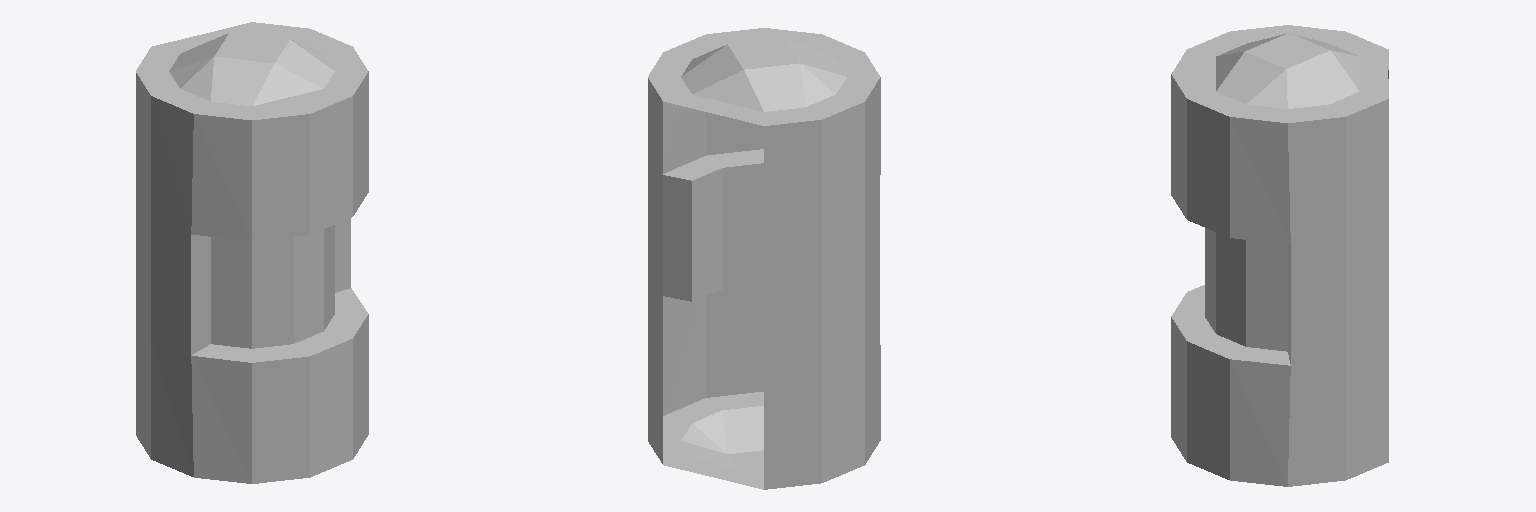
Rendered from Wall_Light_Orange.obj.
3 renders of one model, left to right at view 1: azimuth 30°, elevation 25°; view 2: azimuth 150°, elevation 25°; view 3: azimuth 270°, elevation 25°, orthographic.
Visible parts, largest first — view 1: Wall_Light_Orange; view 2: Wall_Light_Orange; view 3: Wall_Light_Orange.
Boxes of the visible parts, box(x1,y1,x2,y2) form: Wall_Light_Orange: box(136, 22, 368, 483); Wall_Light_Orange: box(648, 28, 880, 489); Wall_Light_Orange: box(1171, 25, 1388, 486).
Bounding box in the file's own units: 0.5615 × 1.09 × 0.5239.